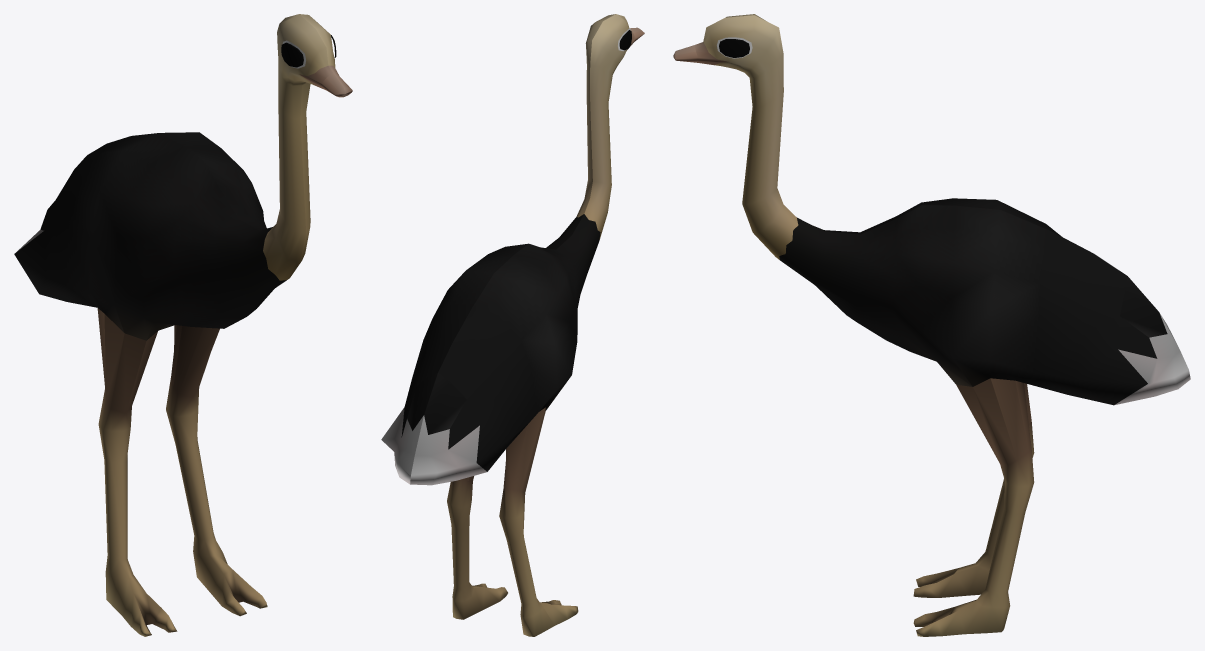
The model's file is kit-ostrich.glb.
3 renders of one model, left to right at view 1: azimuth 30°, elevation 25°; view 2: azimuth 150°, elevation 25°; view 3: azimuth 270°, elevation 25°, orthographic. The views are drawn at different scales.
Visible parts, largest first — view 1: base; view 2: base; view 3: base.
Part boxes in pixels (x1,y1,x2,y2): base: [14, 14, 352, 636]; base: [381, 14, 644, 636]; base: [673, 14, 1190, 636].
Size of the model in its own units: 0.5221 by 2.23 by 1.76.
